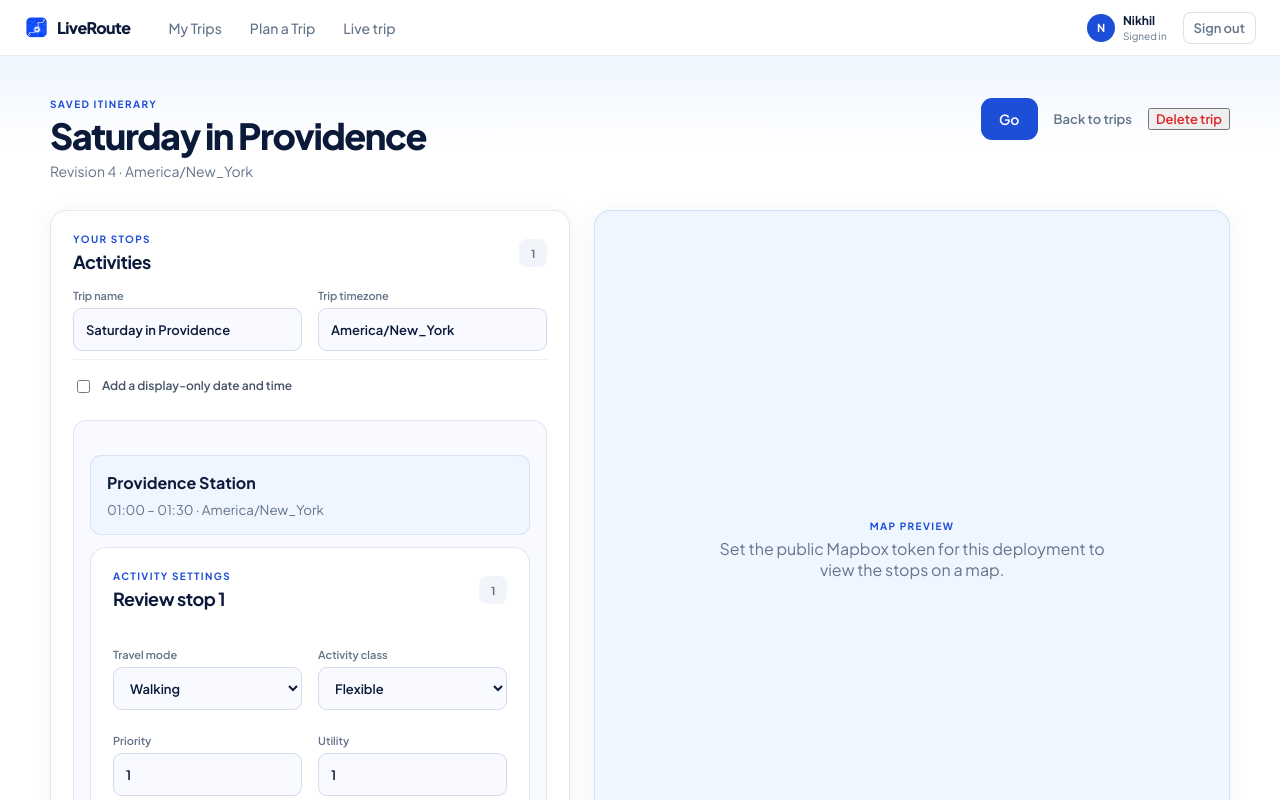
Scenario: App session restoration › deletes an inactive trip only after confirmation
Step 1. Click the button "Delete trip" → x=1189, y=119, box left=1148, top=108, right=1230, bottom=130
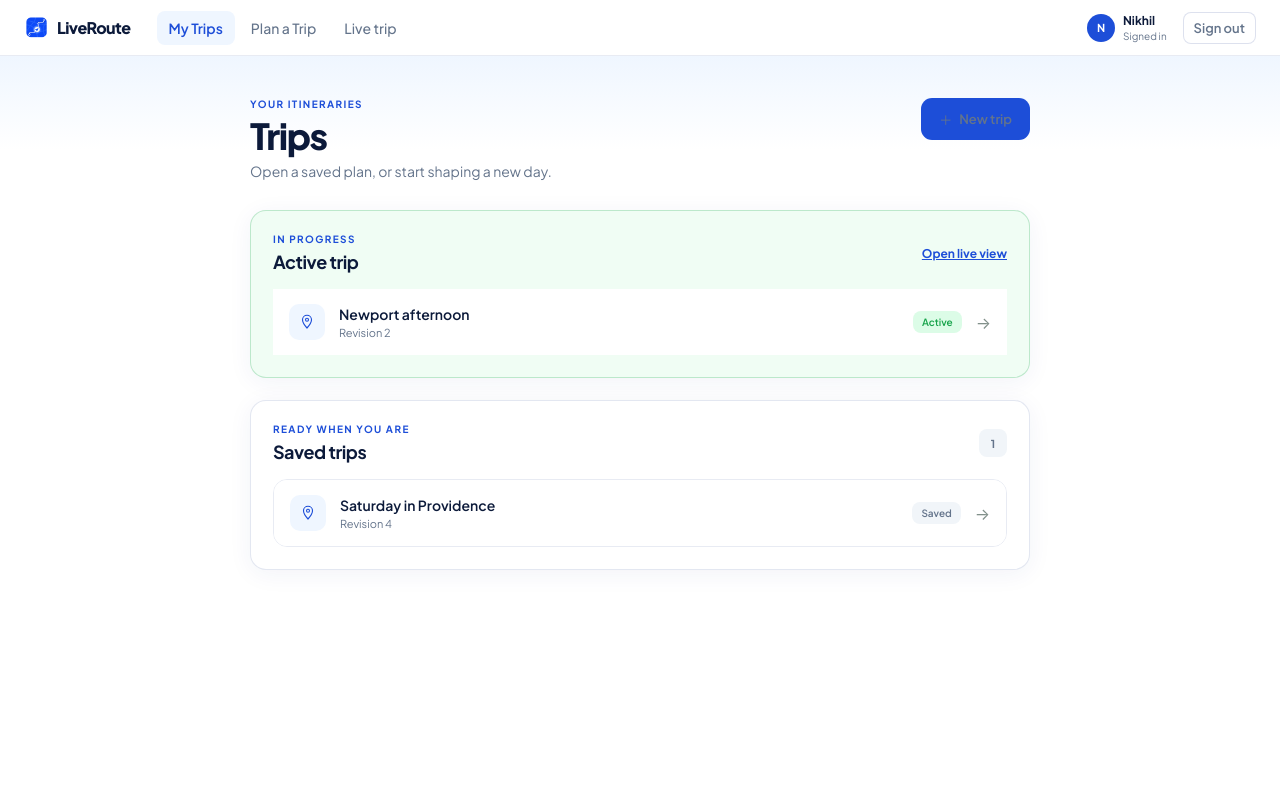
Check: the heading "Trips" is shown, box left=250, top=113, right=326, bottom=158
